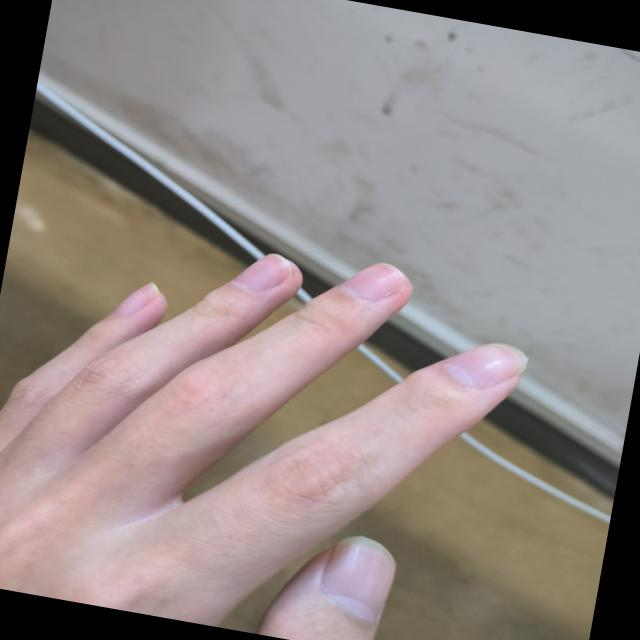Nail: (320, 535, 395, 623), (443, 343, 526, 387), (341, 263, 405, 300), (232, 254, 290, 291), (112, 283, 159, 317)
